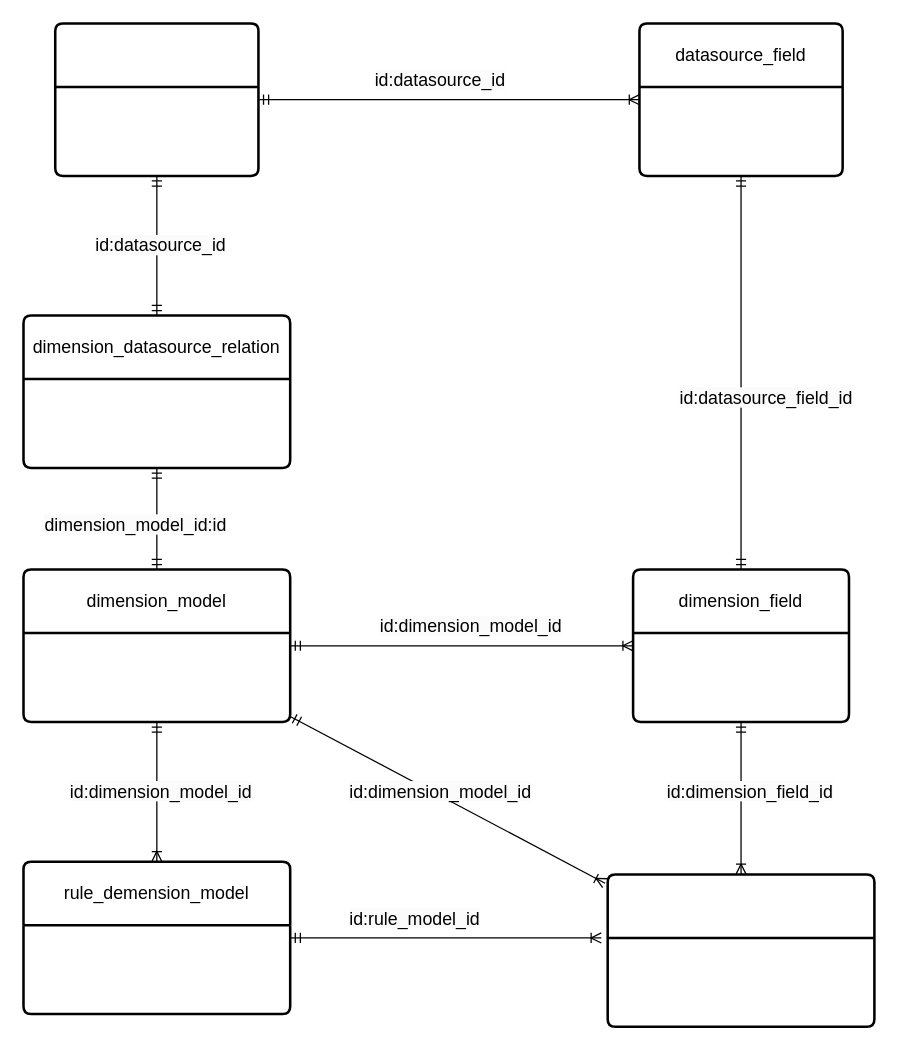
The diagram is 897 pixels wide and 1049 high, and some of its shapes have lost their labels. Each missing label, with the centre of its shape:
"datasource" goes at (x=156, y=99).
"rule_dimension_field" goes at (x=740, y=949).
